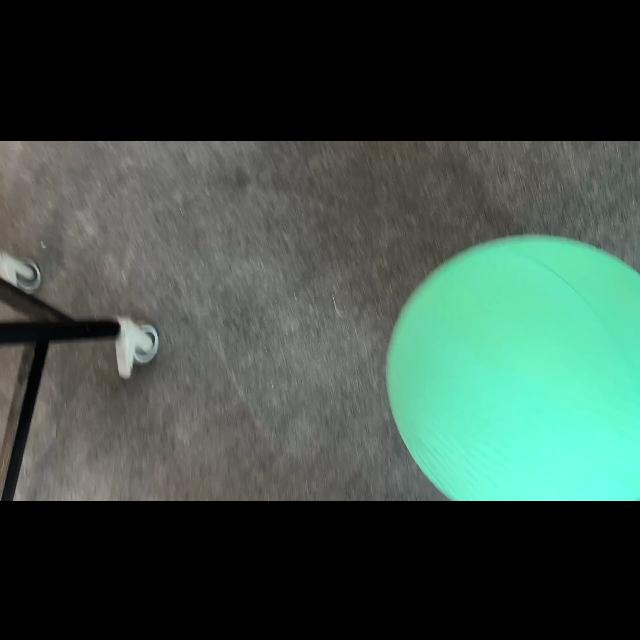ALGAE: (384, 233, 638, 499)
